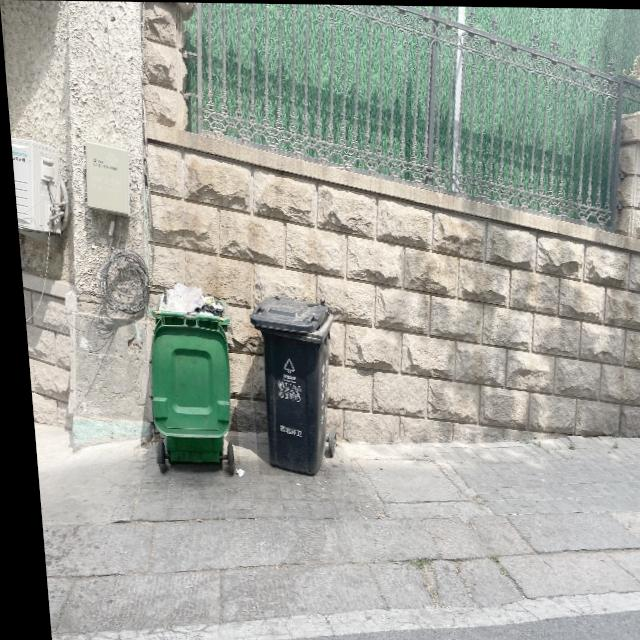garbage_bin: (240, 294, 337, 476)
overflow: (137, 281, 233, 464)
